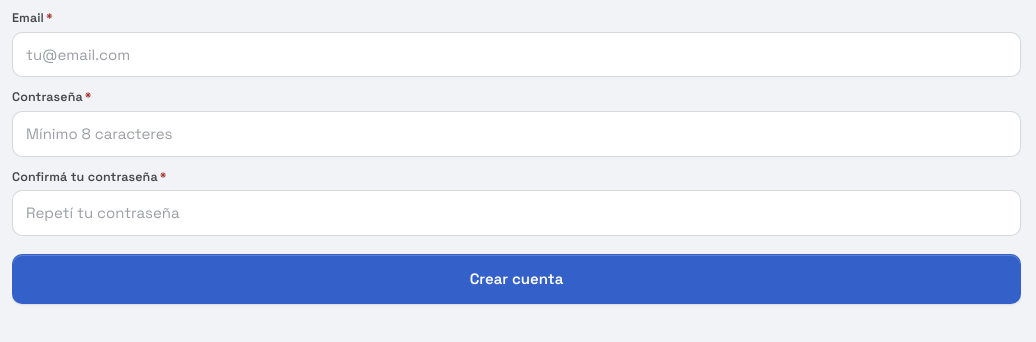
Test: RegisterForm › muestra error si las contraseñas no coinciden
Step 1. Type "test@example.com" into the field labelled "Email*" → (516, 54), box x1=12 y1=32 x2=1021 y2=77
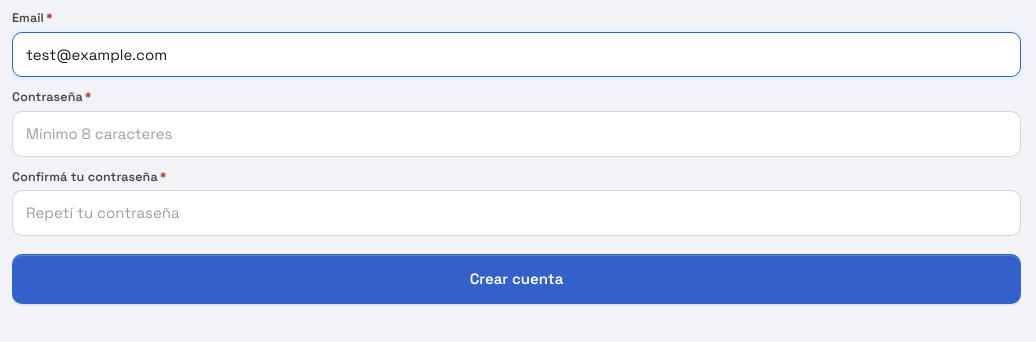
Step 2. Type "password123" into the password field labelled "Contraseña*" → (516, 134), box x1=12 y1=111 x2=1021 y2=157
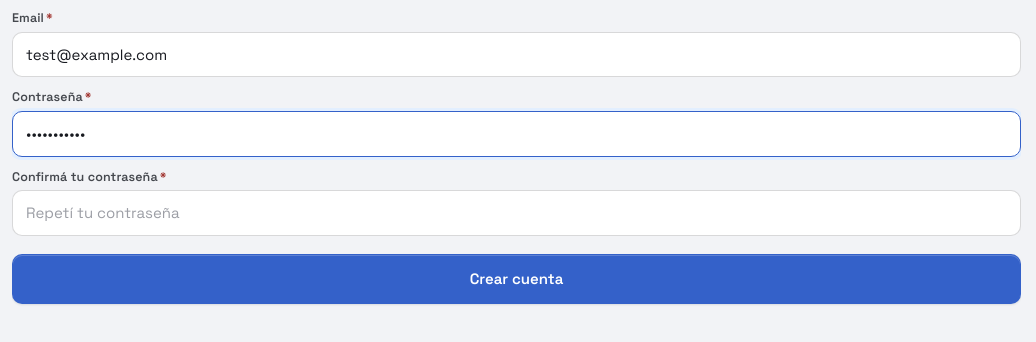
Step 3. Type "diferente123" into the password field labelled "Confirmá tu contraseña*" → (516, 213), box x1=12 y1=190 x2=1021 y2=236
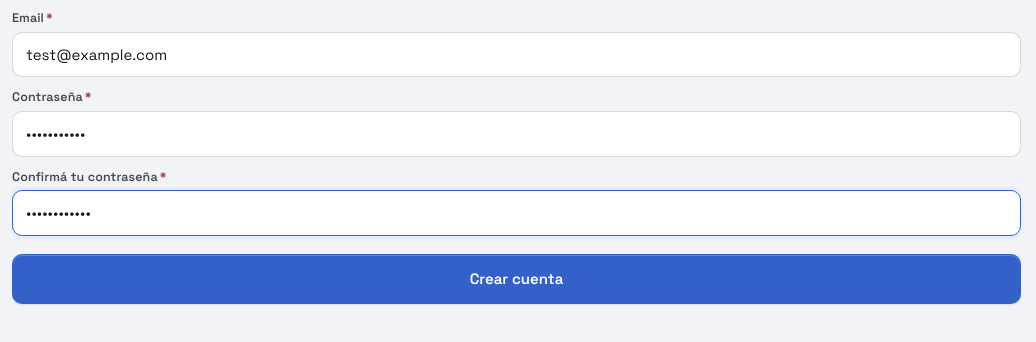
Step 4. Click the button "Crear cuenta" → (516, 279), box x1=12 y1=254 x2=1021 y2=304
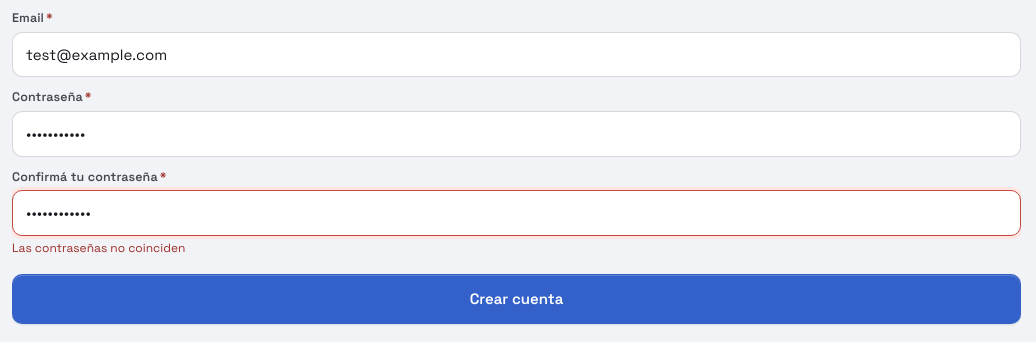
Now the text "Las contraseñas no coinciden" is shown, box x1=12 y1=240 x2=185 y2=256
